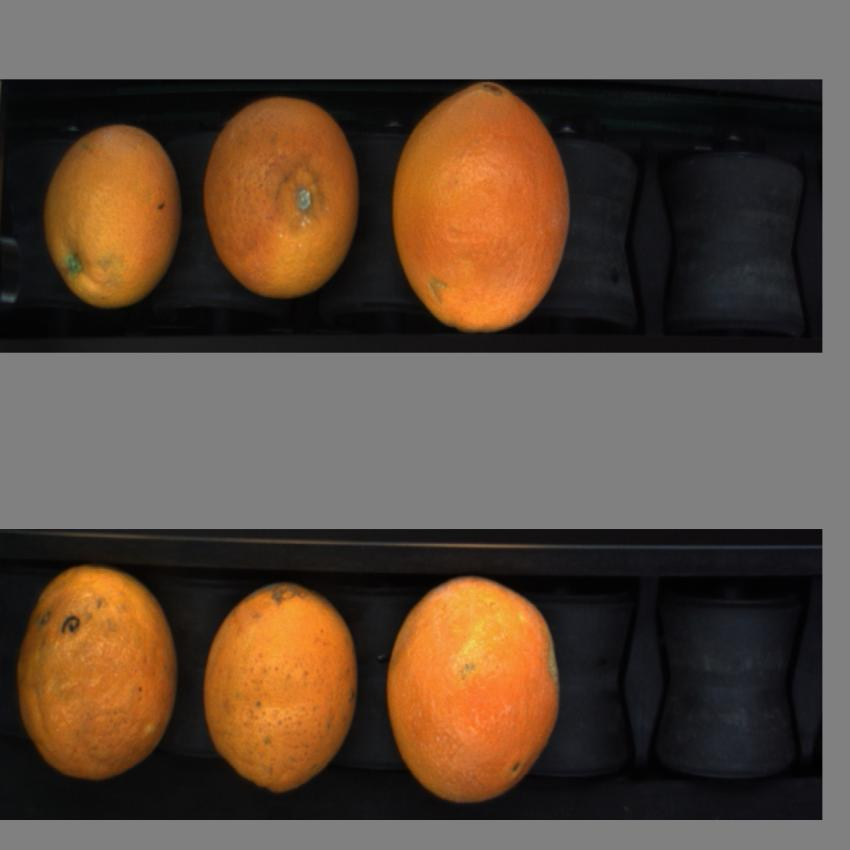Buen estado: (393, 83, 578, 340), (197, 564, 363, 792), (40, 112, 184, 315)
Mal estado: (384, 577, 565, 807), (16, 554, 177, 784), (204, 101, 365, 295)
